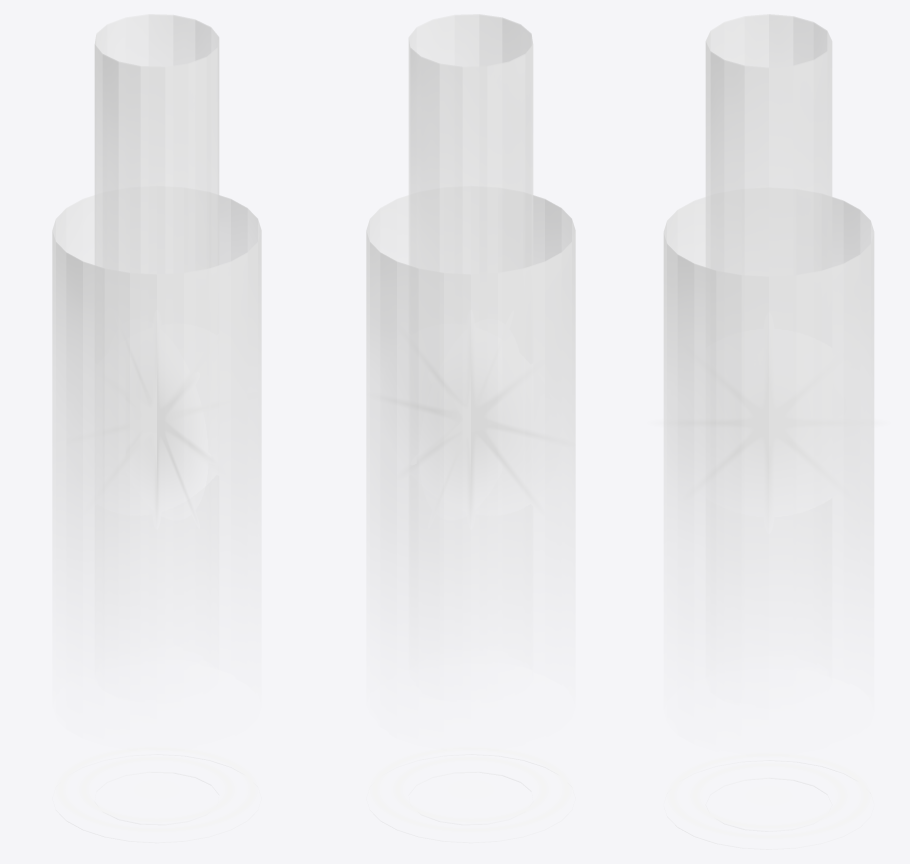
The model's file is fx_up_asc.glb.
3 renders of one model, left to right at view 1: azimuth 30°, elevation 25°; view 2: azimuth 150°, elevation 25°; view 3: azimuth 270°, elevation 25°, orthographic.
Parts seen in each view (by area): view 1: fx_up_pillar, fx_up_star, fx_up_ring; view 2: fx_up_pillar, fx_up_star, fx_up_ring; view 3: fx_up_pillar, fx_up_star, fx_up_ring.
Boxes of the visible parts, <box> form: fx_up_pillar: <box>52,14,261,842</box>; fx_up_star: <box>64,347,239,517</box>; fx_up_ring: <box>54,746,259,832</box>; fx_up_pillar: <box>366,14,575,842</box>; fx_up_star: <box>387,342,563,516</box>; fx_up_ring: <box>368,746,573,832</box>; fx_up_pillar: <box>663,14,874,849</box>; fx_up_star: <box>661,352,876,510</box>; fx_up_ring: <box>665,752,872,839</box>.
Size of the model in its own units: 1.2 by 4 by 1.2.
3 materials, 3 textured.
